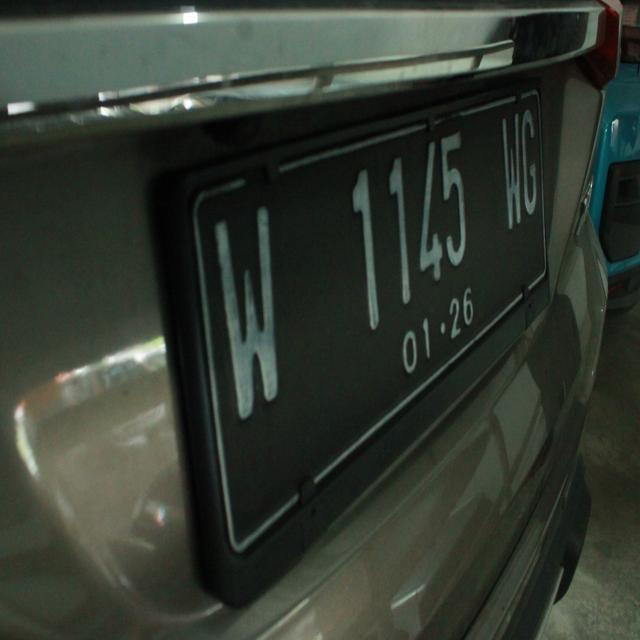1: (341, 169, 386, 331), (376, 160, 419, 310)
4: (408, 139, 451, 281)
5: (434, 124, 472, 270)
G: (514, 100, 542, 216)
W: (204, 215, 294, 418), (492, 104, 524, 234)
